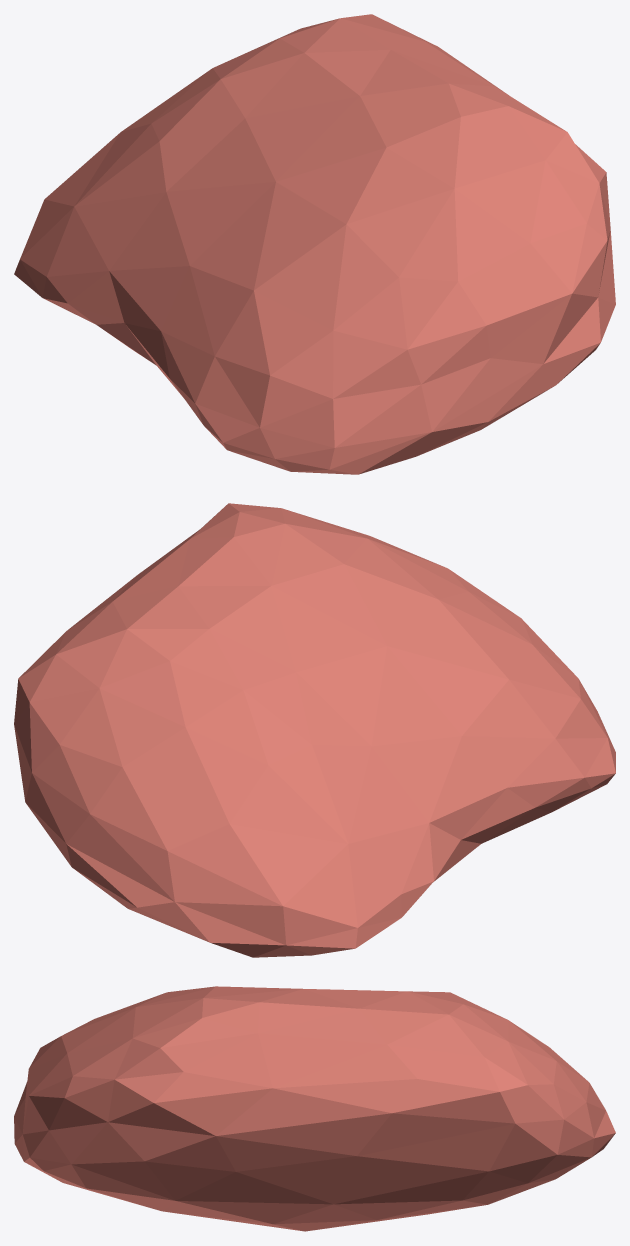
The picture shows the model from 3 angles, top to bottom: view 1: azimuth 30°, elevation 25°; view 2: azimuth 150°, elevation 25°; view 3: azimuth 270°, elevation 25°; orthographic projection. The views are drawn at different scales.
Visible parts, largest first — view 1: 606826659.obj; view 2: 606826659.obj; view 3: 606826659.obj.
Boxes of the visible parts, x1=… form: 606826659.obj: x1=14, y1=14, x2=615, y2=474; 606826659.obj: x1=14, y1=503, x2=615, y2=957; 606826659.obj: x1=14, y1=986, x2=615, y2=1231.
Size of the model in its own units: 462 by 303 by 672.
